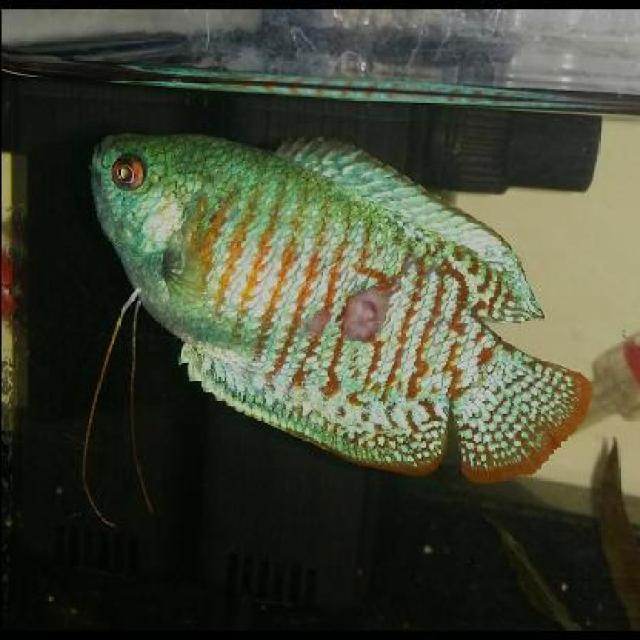Gourami: (84, 116, 596, 478)
